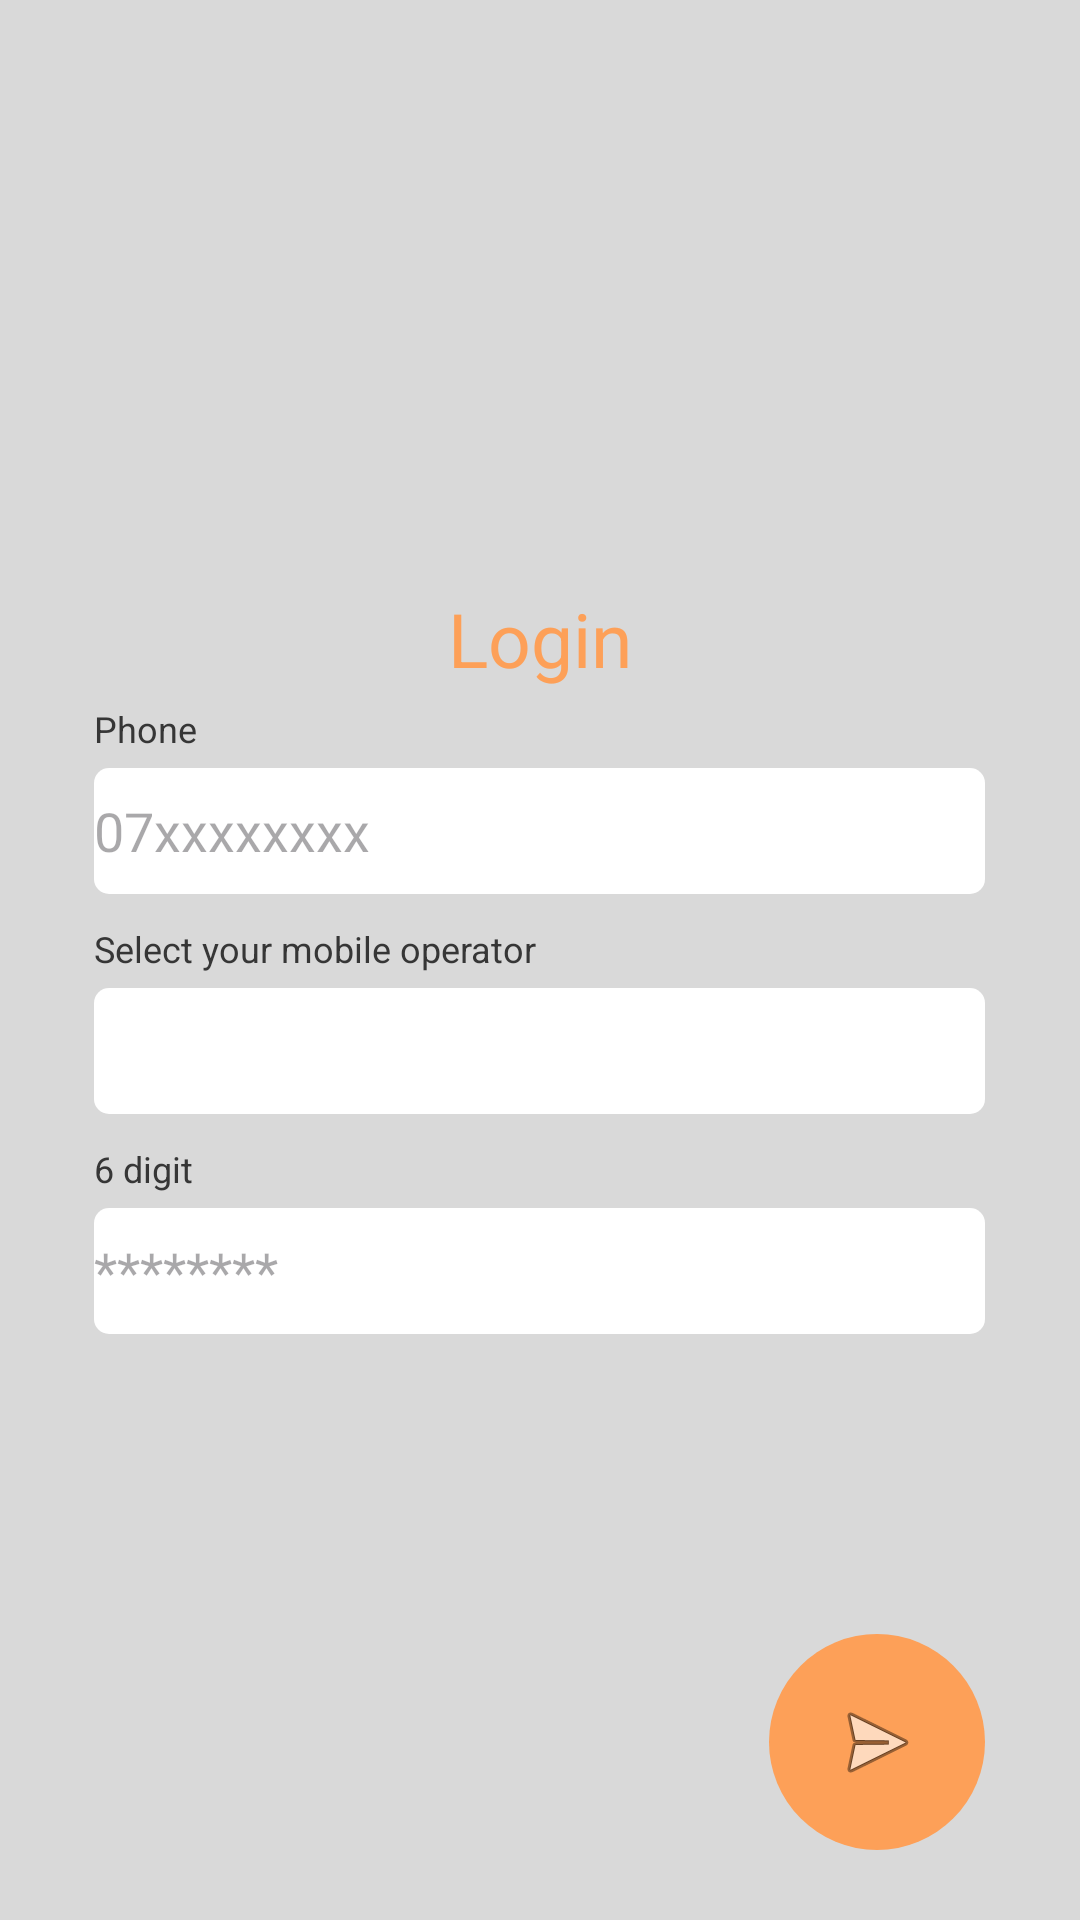

Icon bounding boxes for this 1080 x 1920 phone screenshot, format (x1, y1, x2, y2):
send: (769, 1634, 985, 1850)
